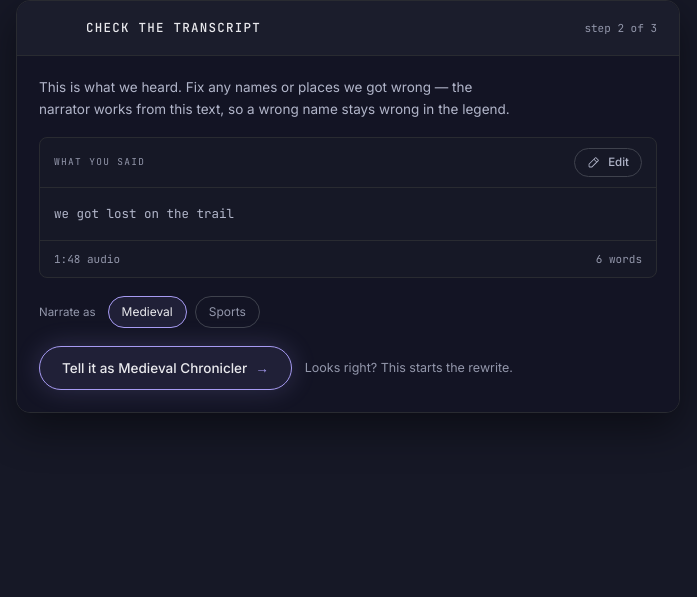
Scenario: ConfirmView › reveals a textarea after clicking Edit
The image size is (697, 597).
Click the button with test id "btn-edit-transcript".
click(608, 162)  # box [574,148,642,177]
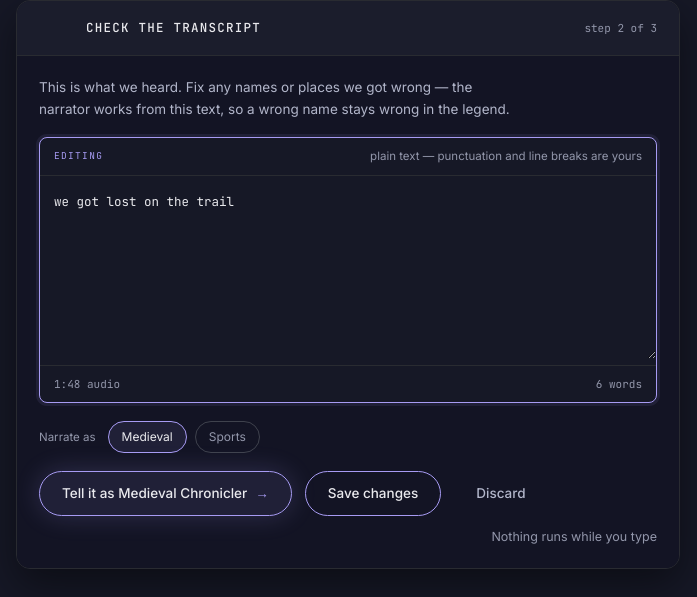
Check: the text box with test id "transcript" is shown, box [40,176,656,359]
Check: the text "EDITING" is shown, box [54,149,103,163]
